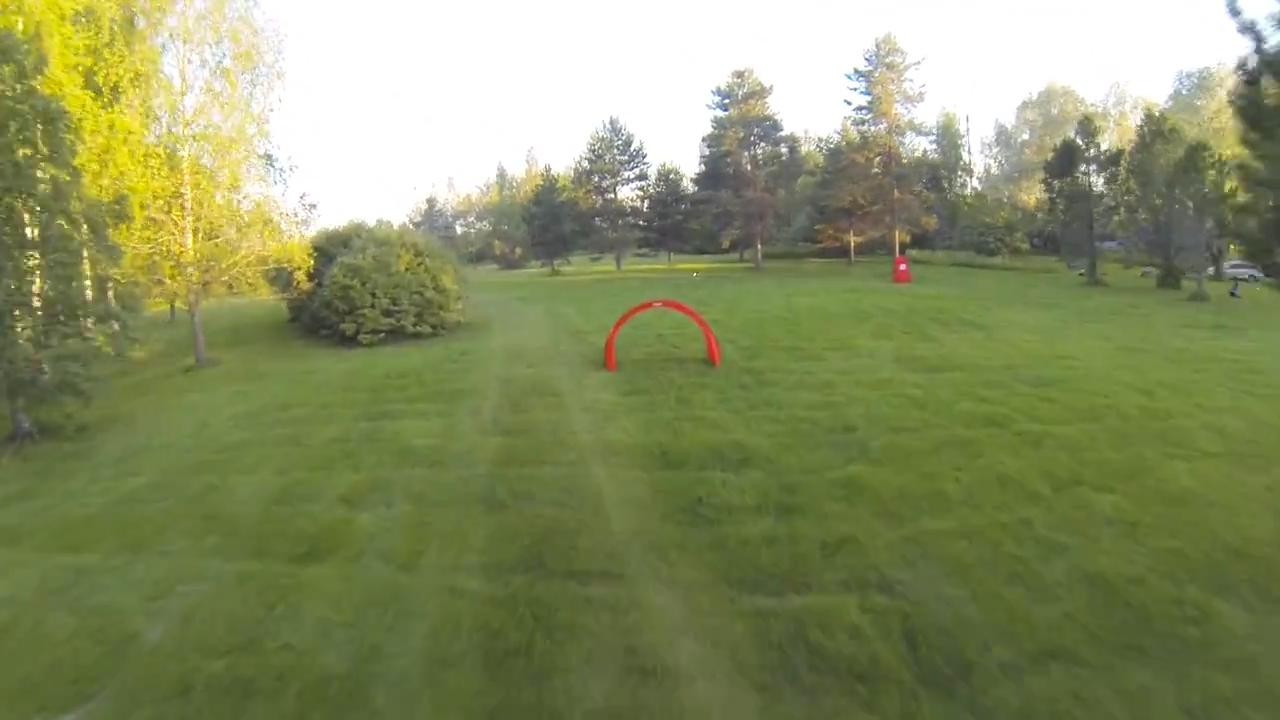gate: (595, 298, 727, 373)
